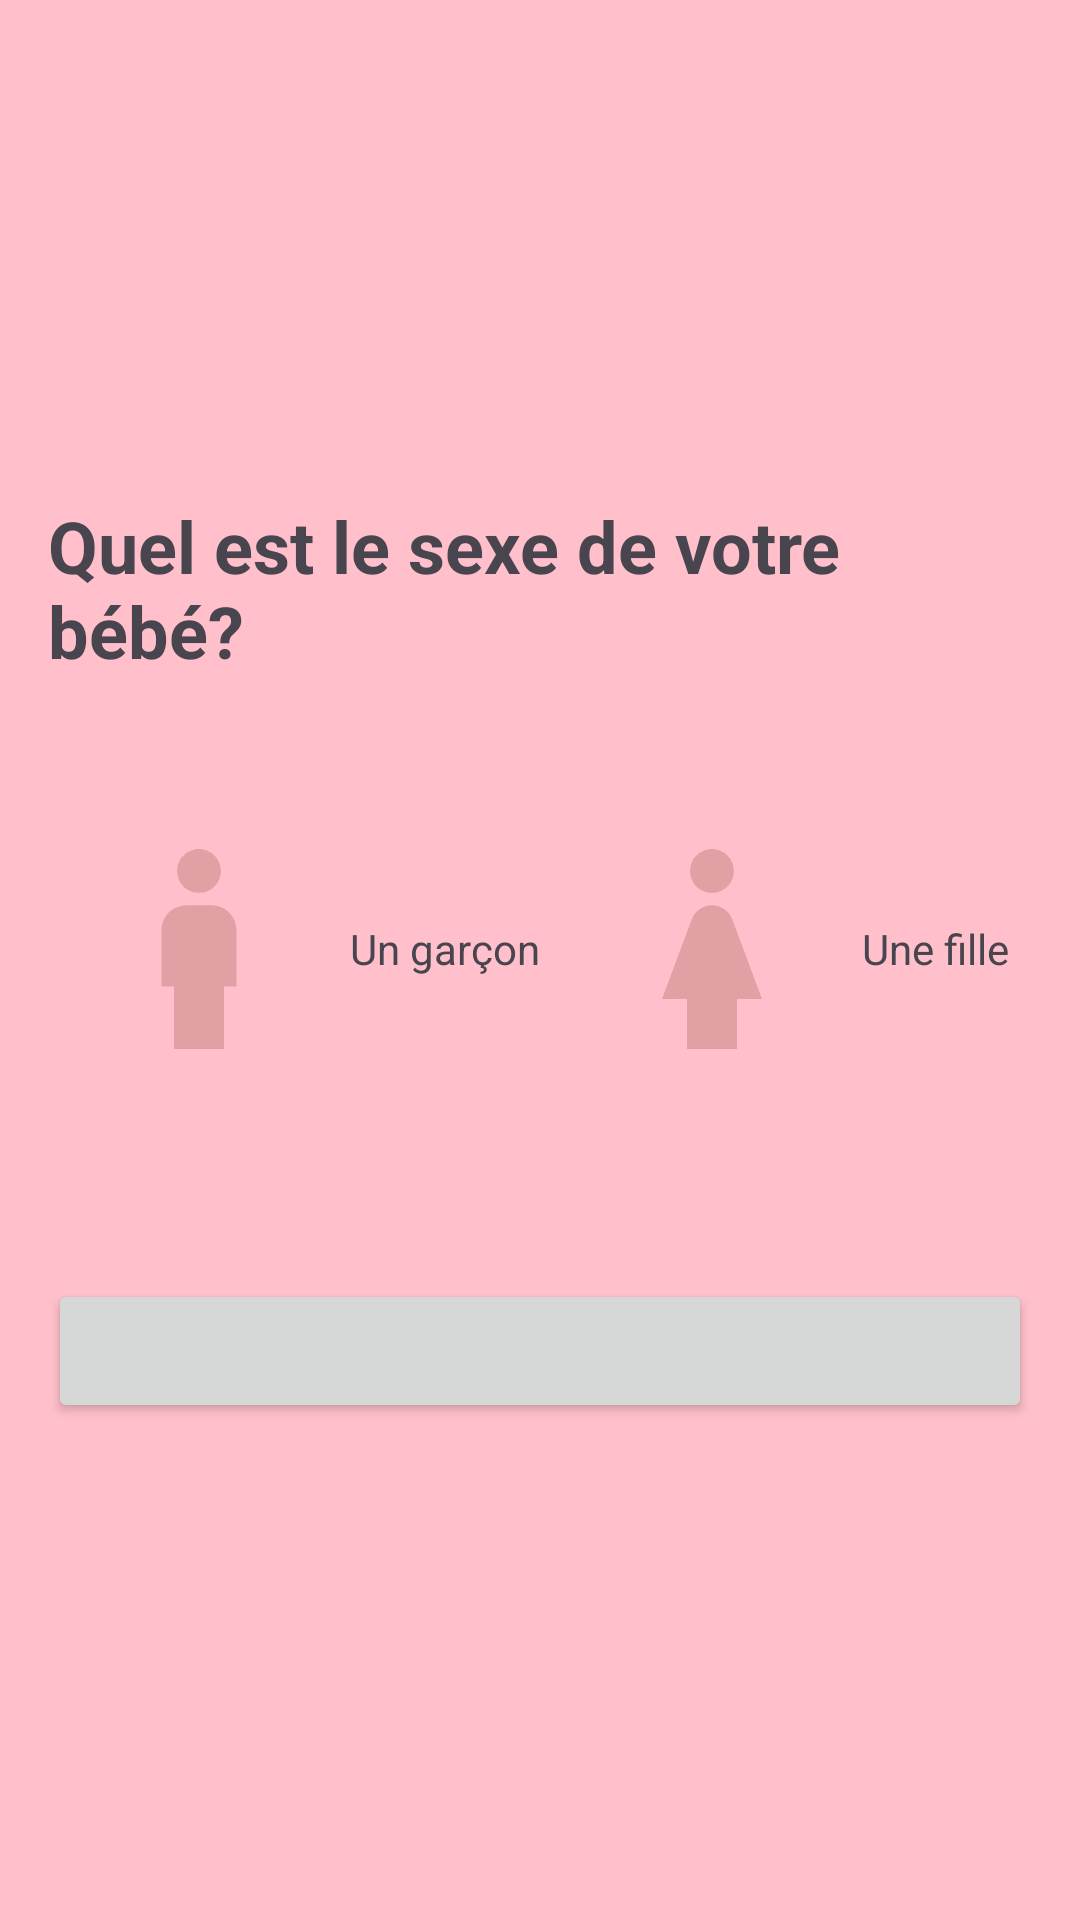

Icons on this 1080*1920 Android screen, each with its box as (x1=x1, y1=y1, x2=x2, y2=y2):
girl: (x1=662, y1=849, x2=762, y2=1049)
